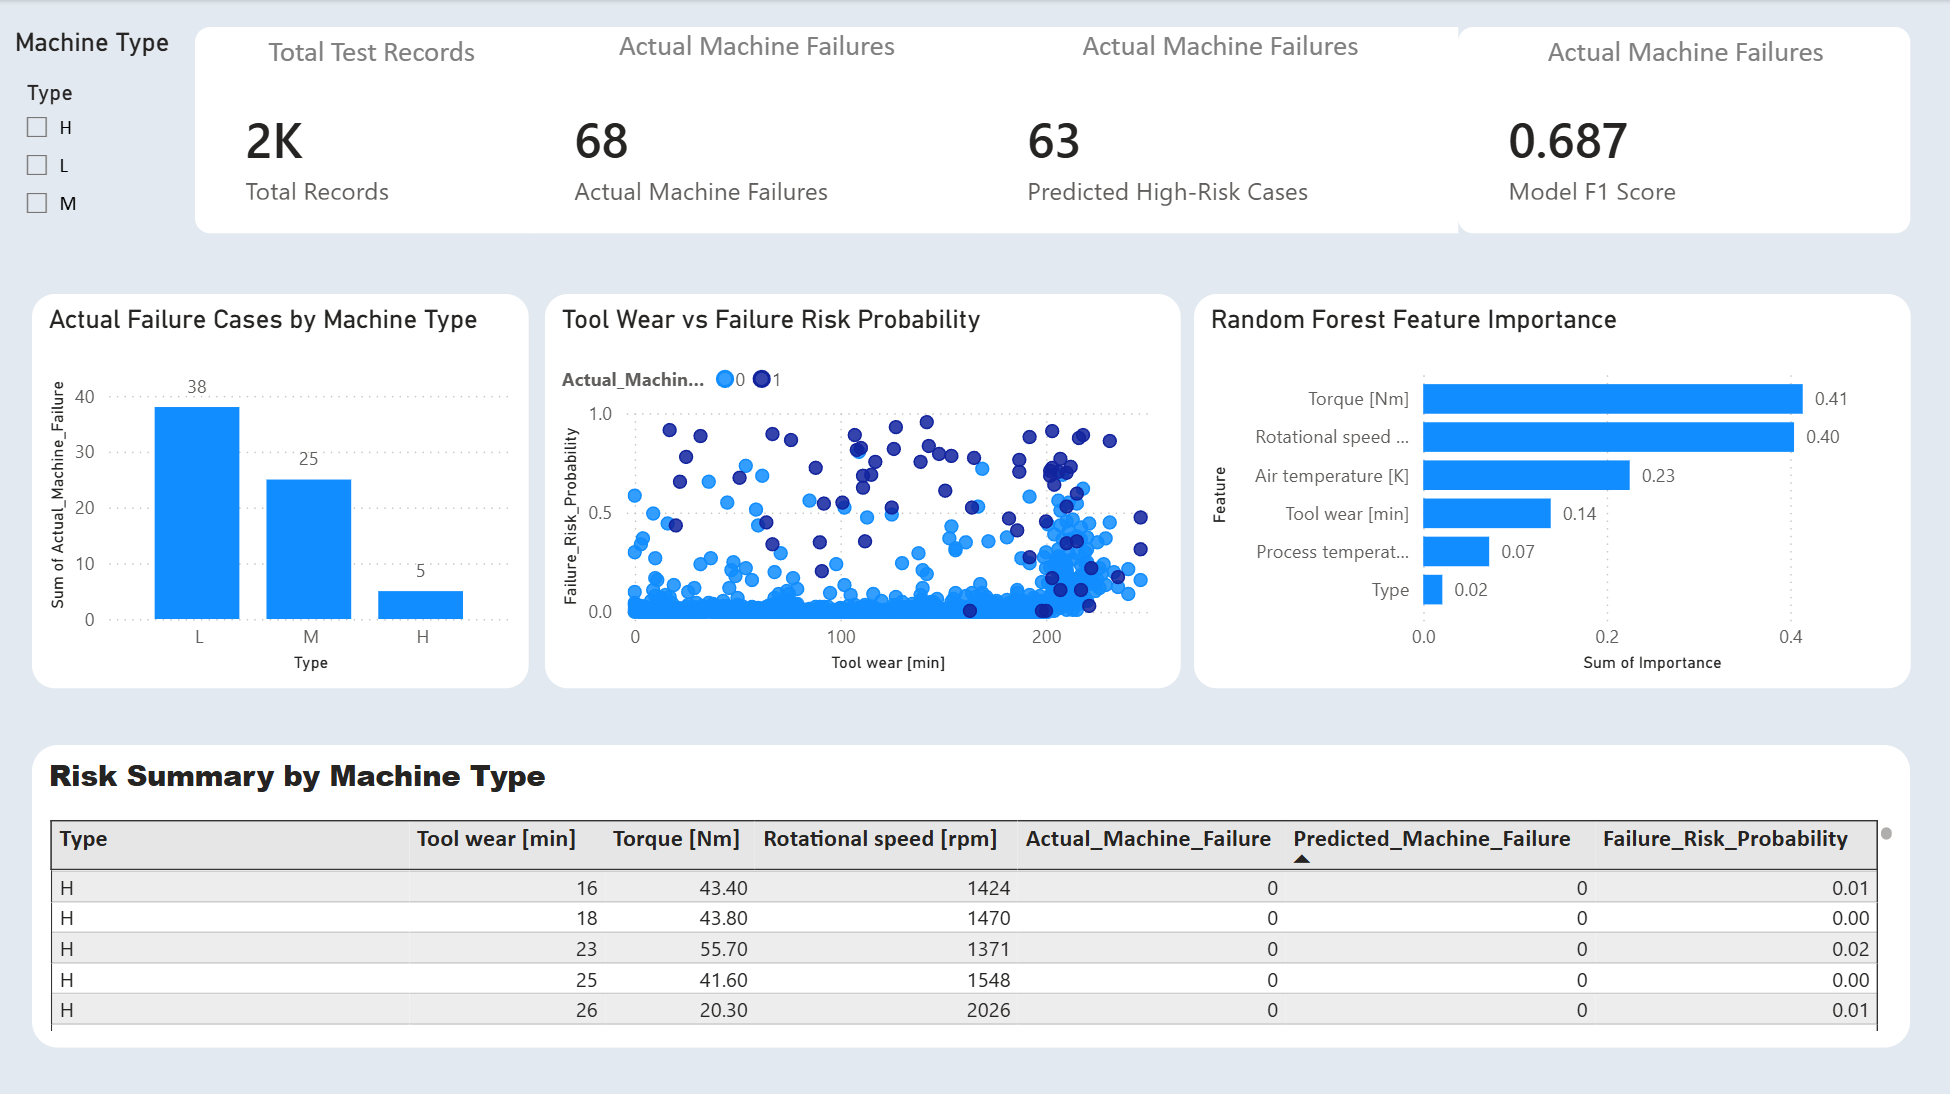

Layout of this report page (visuals, bound fields, positions):
{"tool":"powerbi","page":{"name":"Page 1","canvas":[1280,720],"ordinal":0},"visuals":[{"type":"cardVisual","title":"Total Test Records","fields":{"Data":["predictions_for_powerbi.Total Records"]},"box":[161.4,0.7,229.3,142.9],"z":0},{"type":"cardVisual","title":"Actual Machine Failures","fields":{"Data":["predictions_for_powerbi.Actual Machine Failures"]},"box":[379.3,0.7,227.9,134.3],"z":1000},{"type":"cardVisual","title":"Predicted High-Risk Cases","fields":{"Data":["predictions_for_powerbi.Predicted High-Risk Cases"]},"box":[604.3,0.7,262.1,134.3],"z":2000},{"type":"cardVisual","title":"Model F1 Score","fields":{"Data":["predictions_for_powerbi.Model F1 Score"]},"box":[894.3,0.7,183.6,134.3],"z":3000},{"type":"clusteredColumnChart","title":"Actual Failure Cases by Machine Type","fields":{"Category":["predictions_for_powerbi.Type"],"Y":["Sum(predictions_for_powerbi.Actual_Machine_Failure)"]},"box":[0,207.1,359.3,233.6],"z":4000},{"type":"scatterChart","title":"Tool Wear vs Failure Risk Probability","fields":{"X":["predictions_for_powerbi.Tool wear [min]"],"Series":["predictions_for_powerbi.Actual_Machine_Failure"],"Y":["predictions_for_powerbi.Failure_Risk_Probability"]},"box":[359.3,202.1,440,238.8],"z":5000},{"type":"barChart","title":"Random Forest Feature Importance","fields":{"Category":["feature_importance.Feature"],"Y":["Sum(feature_importance.Importance)"]},"box":[791.4,229.3,488.6,239.3],"z":6000},{"type":"slicer","title":"Machine Type","fields":{"Values":["predictions_for_powerbi.Type"]},"box":[7.9,7.9,113.6,155],"z":7000},{"type":"tableEx","title":"Risk Summary by Machine Type","fields":{"Values":["predictions_for_powerbi.Type","Sum(predictions_for_powerbi.Tool wear [min])","Sum(predictions_for_powerbi.Torque [Nm])","Sum(predictions_for_powerbi.Rotational speed [rpm])","Sum(predictions_for_powerbi.Actual_Machine_Failure)","Sum(predictions_for_powerbi.Predicted_Machine_Failure)","Sum(predictions_for_powerbi.Failure_Risk_Probability)"]},"box":[79.3,545.7,1120.7,155],"z":8000}]}

Visuals, with their boxes in screenshot pixels (x1, y1, x2, y2), scaled from the page's 1280x720 canvas onto the 1950x1094 screenshot:
"Total Test Records" cardVisual: BBox(246, 1, 595, 218)
"Actual Machine Failures" cardVisual: BBox(578, 1, 925, 205)
"Predicted High-Risk Cases" cardVisual: BBox(921, 1, 1320, 205)
"Model F1 Score" cardVisual: BBox(1362, 1, 1642, 205)
"Actual Failure Cases by Machine Type" clusteredColumnChart: BBox(0, 315, 547, 670)
"Tool Wear vs Failure Risk Probability" scatterChart: BBox(547, 307, 1218, 670)
"Random Forest Feature Importance" barChart: BBox(1206, 348, 1949, 712)
"Machine Type" slicer: BBox(12, 12, 185, 248)
"Risk Summary by Machine Type" tableEx: BBox(121, 829, 1828, 1065)
